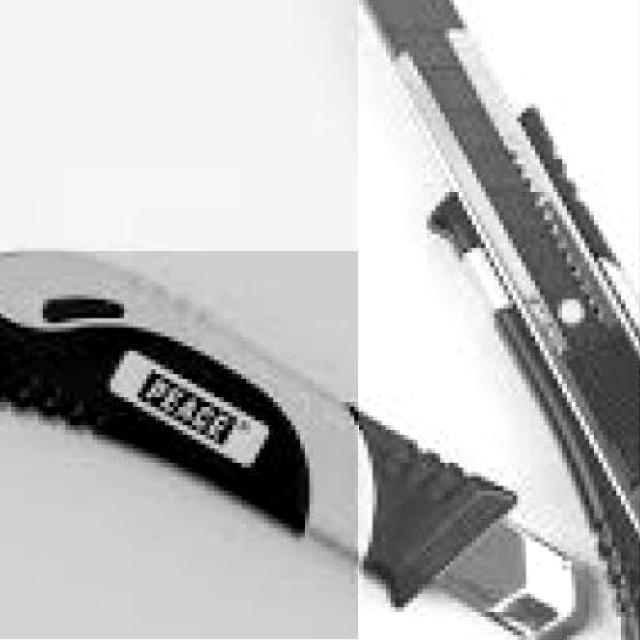estilete: (0, 251, 596, 640), (358, 0, 640, 640)
